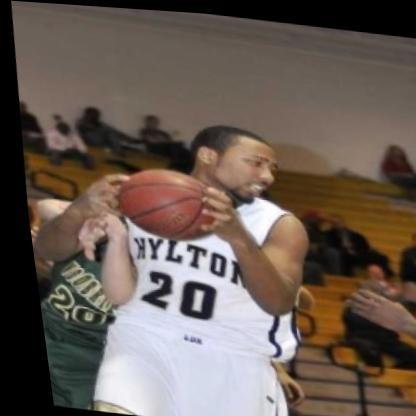basketball: (104, 157, 224, 249)
